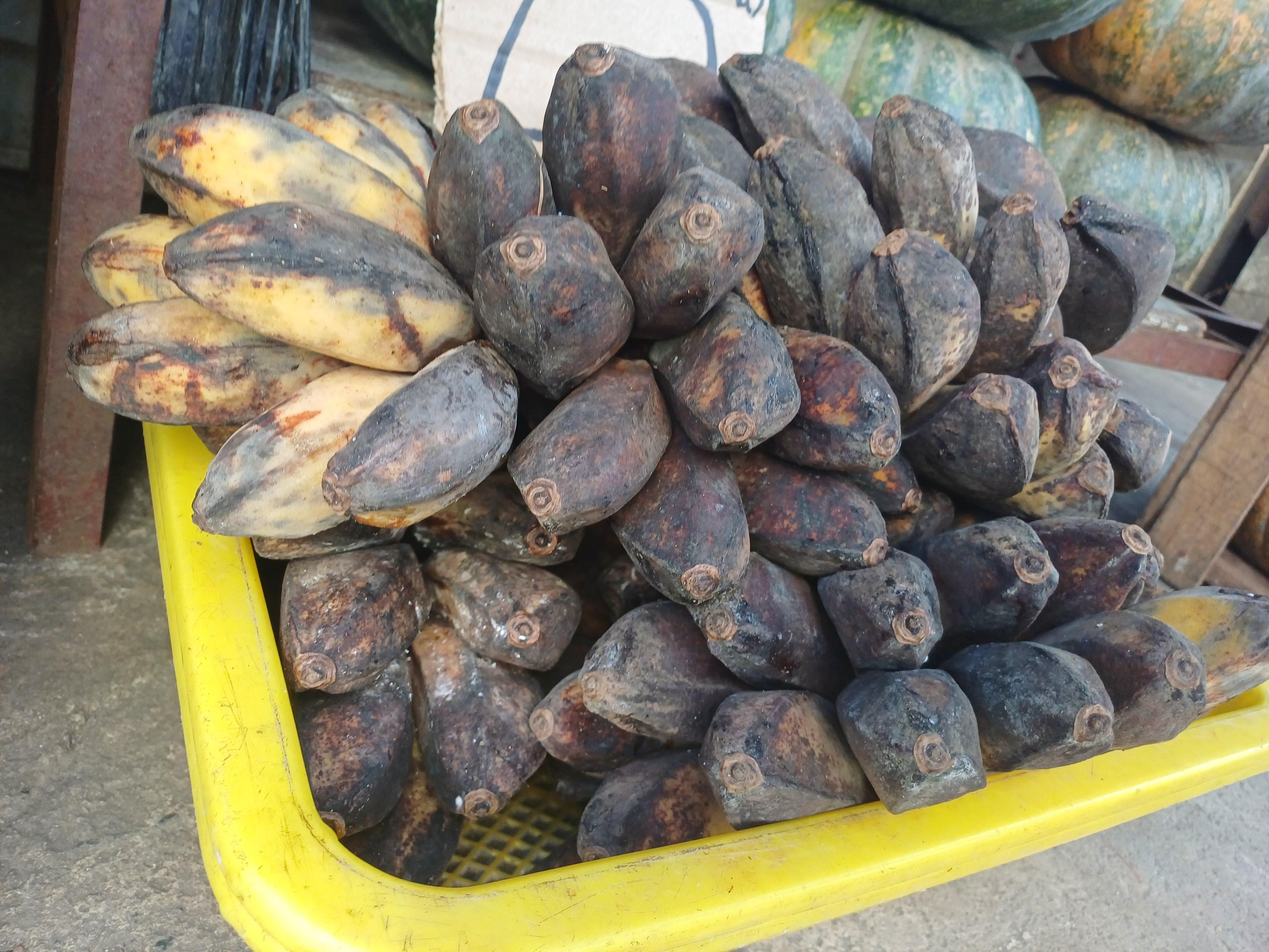overripe: (424, 41, 925, 608), (531, 512, 1269, 860), (652, 54, 1175, 525), (252, 473, 579, 884)
ripe: (63, 87, 519, 543)
